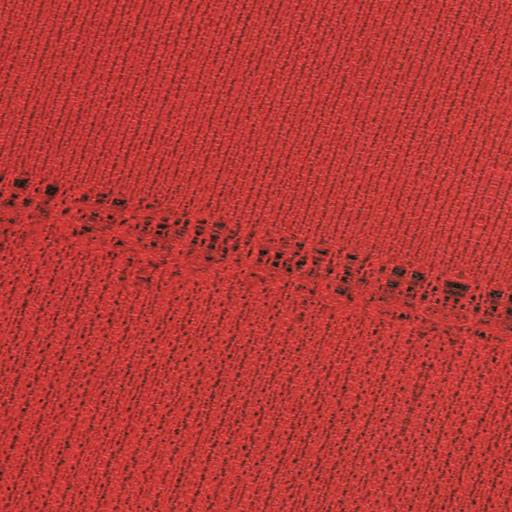slub: (2, 157, 510, 361)
